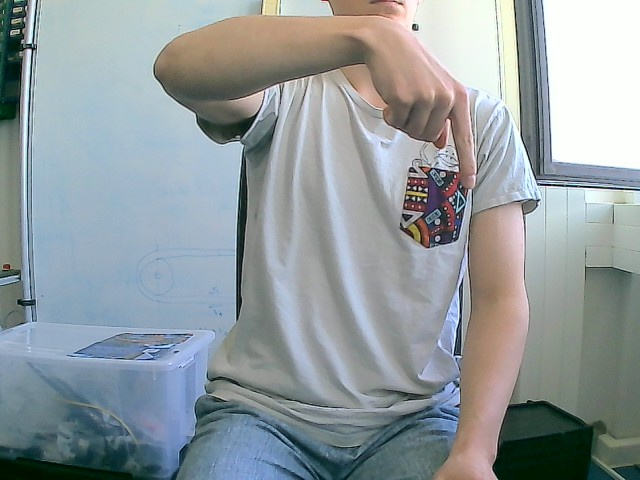down: (363, 21, 479, 191)
